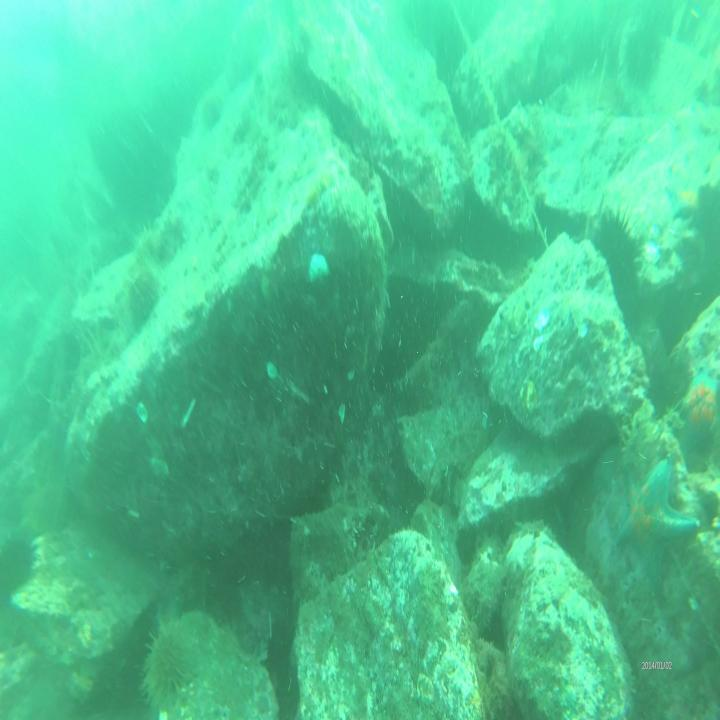echinus: (590, 206, 642, 327), (137, 624, 196, 717), (620, 23, 662, 103), (0, 528, 37, 614)
starfish: (610, 448, 704, 596), (676, 366, 720, 460), (666, 176, 700, 230)
